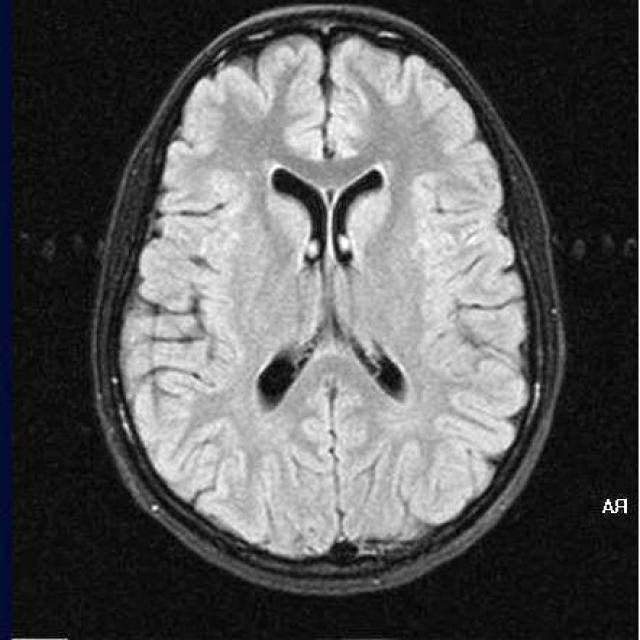notumor: (88, 7, 568, 601)
